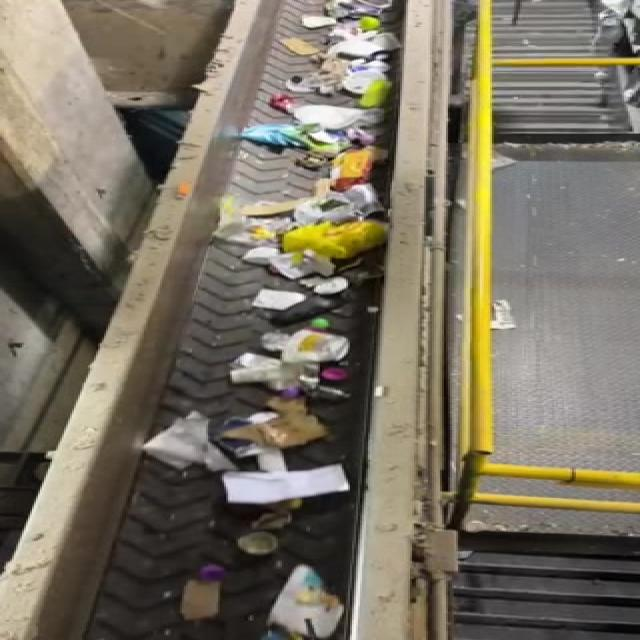paper: (235, 390, 362, 452), (224, 456, 368, 509), (128, 404, 222, 474), (273, 563, 344, 640), (174, 566, 232, 624)
pp: (220, 526, 308, 566)
